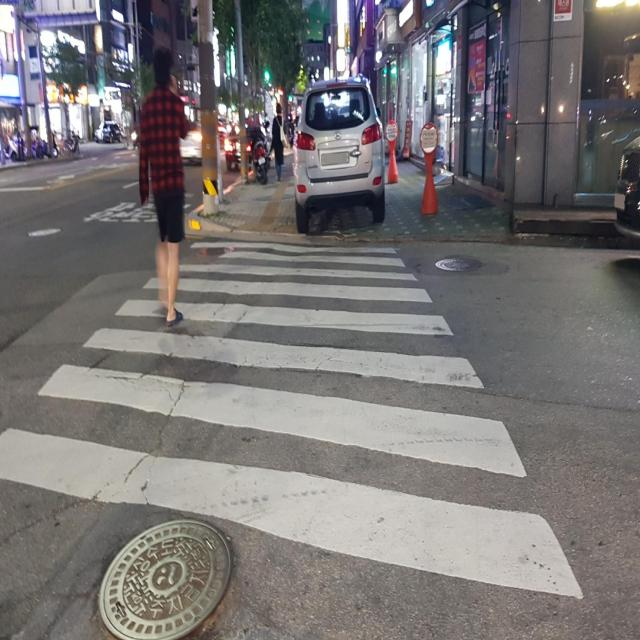횡단보도: (0, 237, 585, 608)
